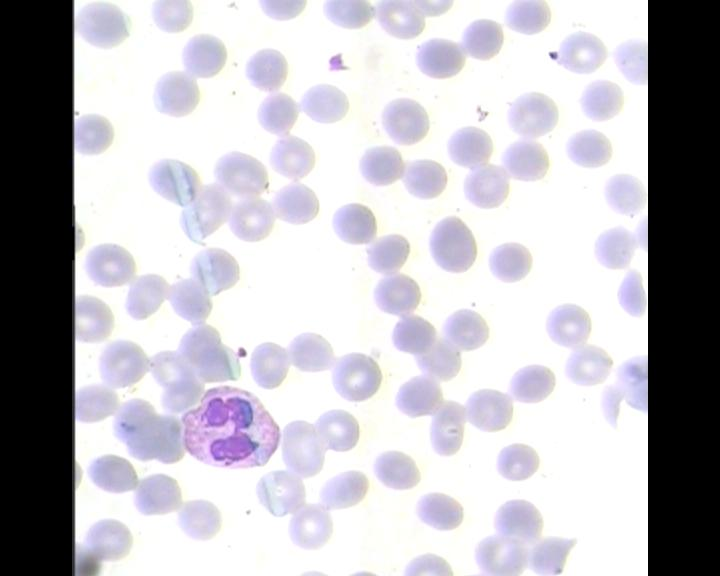neut: (180, 382, 279, 474)
